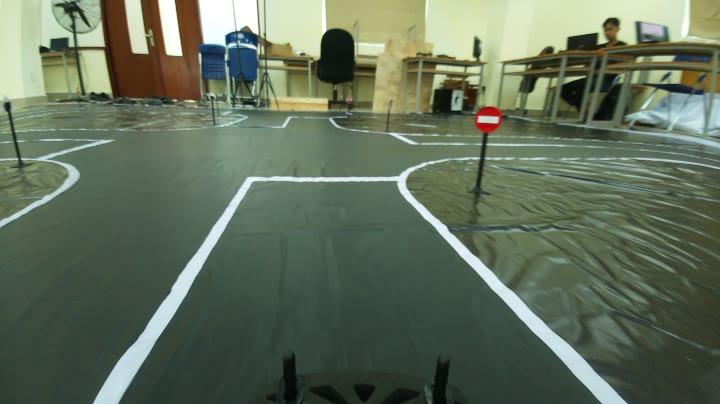no_entry: (471, 100, 505, 138)
